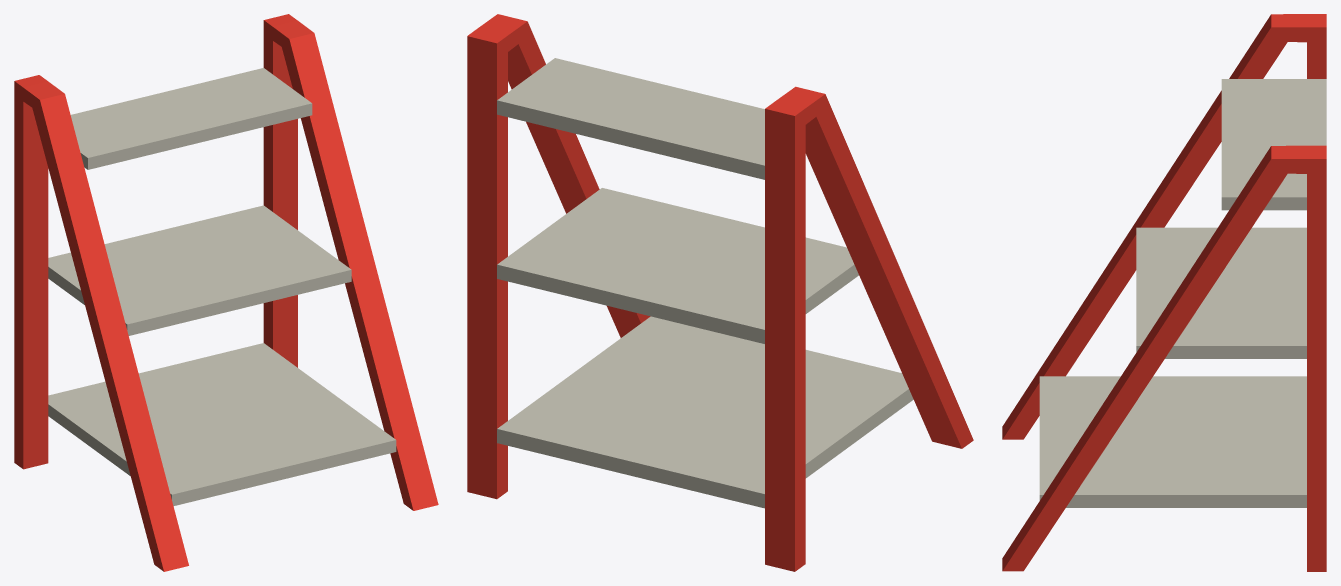
Rendered from stairsfinalvr2 1.fbx.
The picture shows the model from 3 angles, left to right: view 1: azimuth 30°, elevation 25°; view 2: azimuth 150°, elevation 25°; view 3: azimuth 270°, elevation 25°; orthographic projection. The views are drawn at different scales.
Visible parts, largest first — view 1: Cube; view 2: Cube; view 3: Cube.
Part boxes in pixels (x1,y1,x2,y2): Cube: (14, 14, 438, 571); Cube: (467, 14, 973, 571); Cube: (1002, 14, 1326, 571).
Size of the model in its own units: 817 by 1086 by 772.
